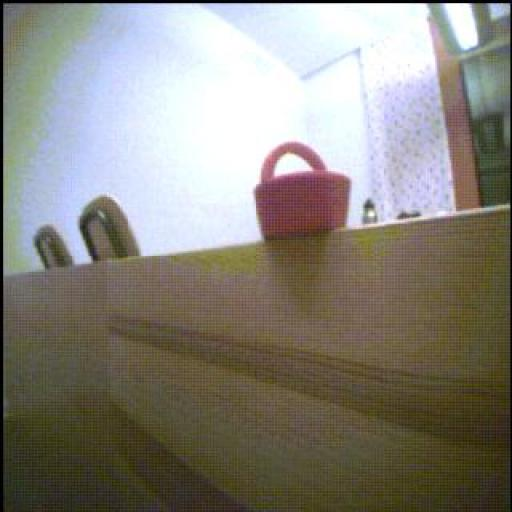Bucket: (256, 144, 352, 240)
